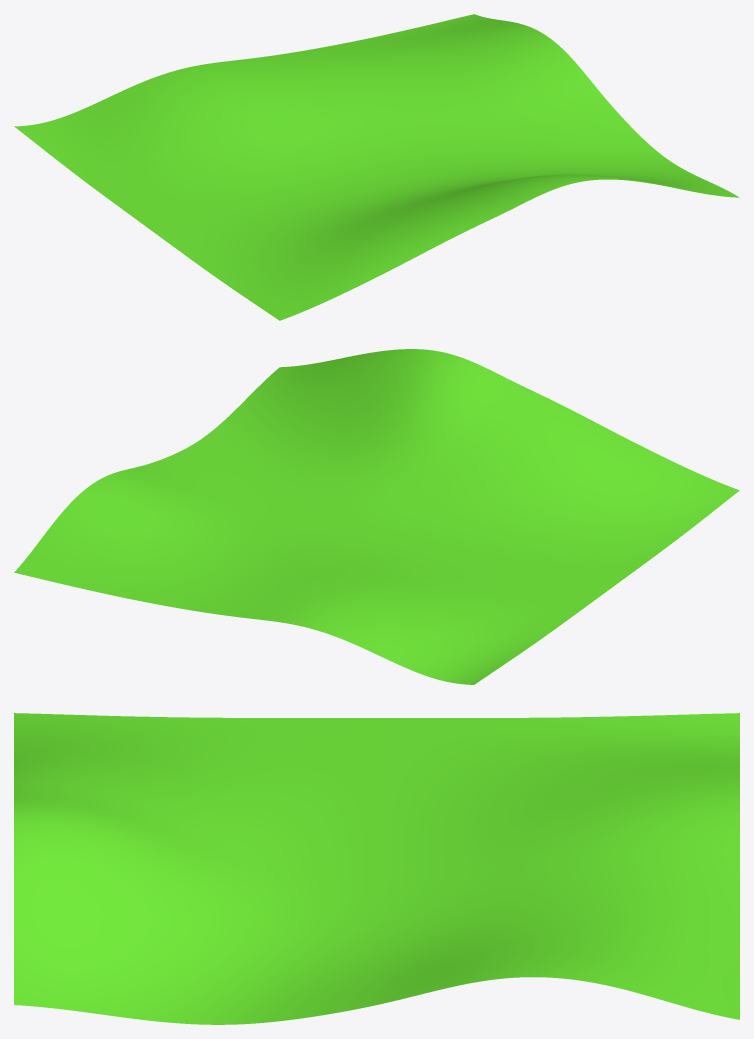
File: ground.glb
3 views of the same model, one above another, from view 1: azimuth 30°, elevation 25°; view 2: azimuth 150°, elevation 25°; view 3: azimuth 270°, elevation 25° (orthographic). The views are drawn at different scales.
Visible parts, largest first — view 1: Plane; view 2: Plane; view 3: Plane.
Boxes of the visible parts, <box> form: Plane: <box>14,14,739,320</box>; Plane: <box>14,349,739,684</box>; Plane: <box>14,713,739,1024</box>.
Size of the model in its own units: 2 by 0.2882 by 2.
